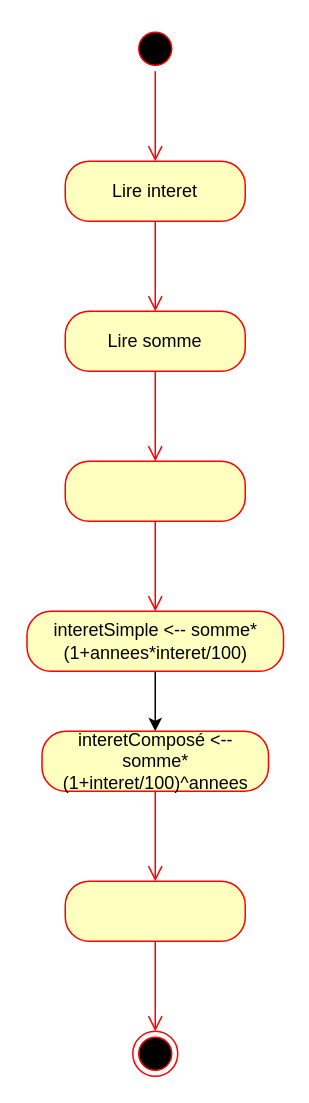
The diagram is 309 pixels wide and 1103 high, and some of its shapes have lost their labels. Here are the shapes that lost their labels. From the top down, the box of each, then its label:
(64, 460, 245, 521): Lire annees
(64, 880, 245, 941): Afficher interetCompose
